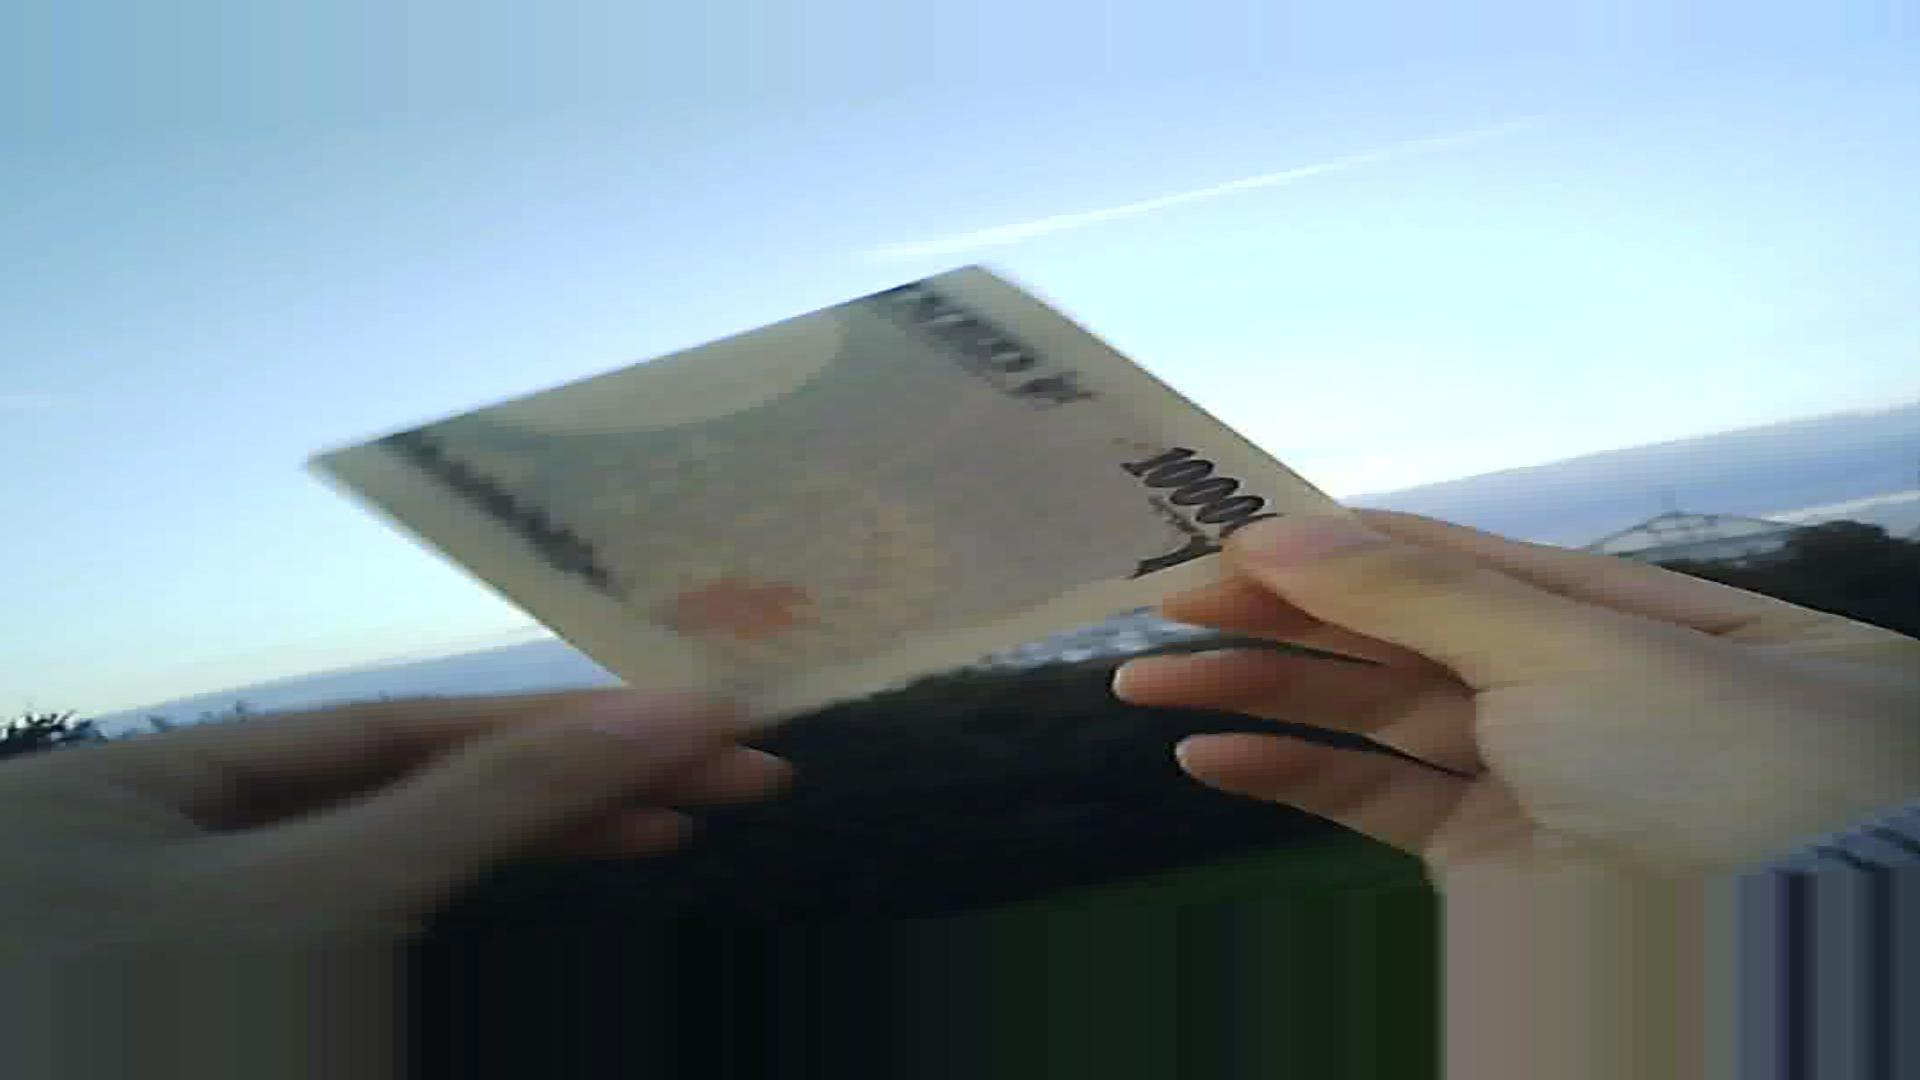10,000 Yen: (367, 260, 1324, 711)
